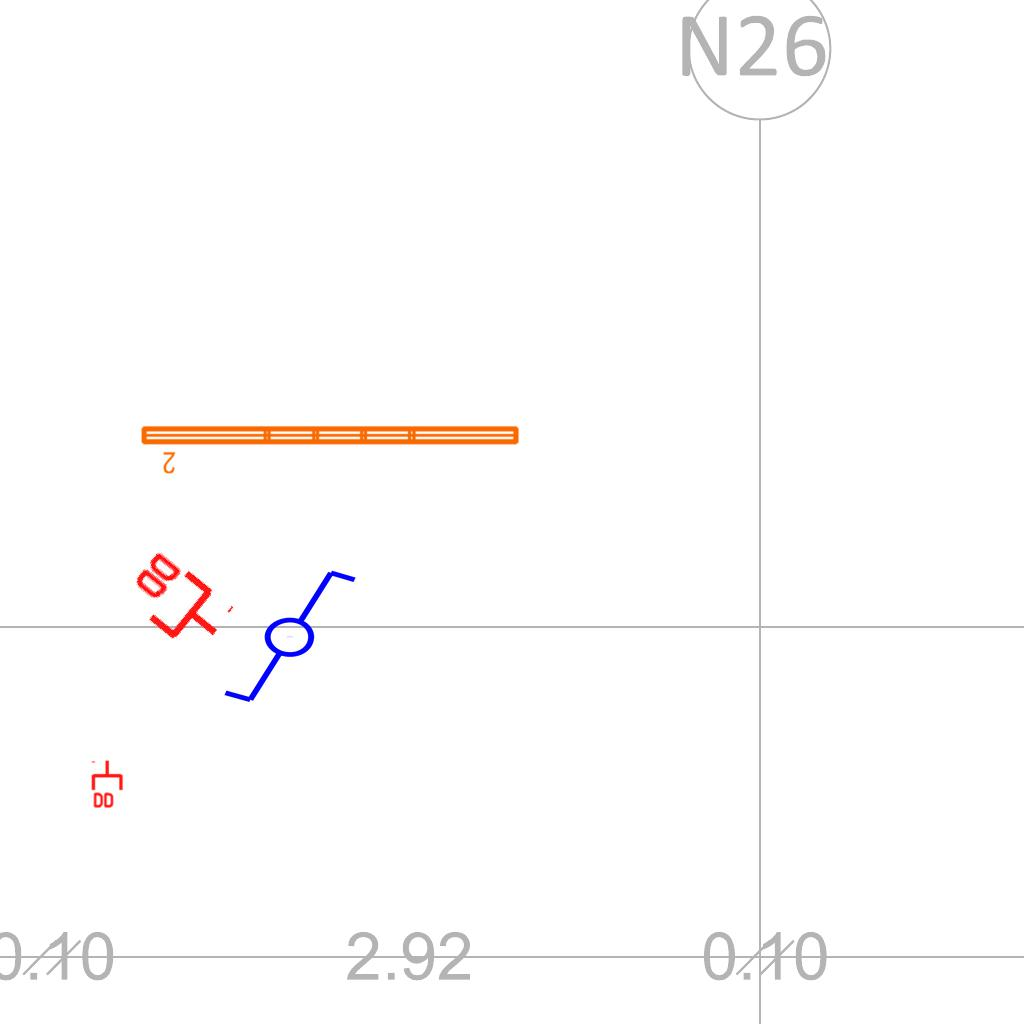Ambulanz_Pendelleuchte_LED: (137, 420, 524, 476)
Datenanschluss_zweifach: (114, 544, 239, 663), (91, 759, 125, 810)
Wechselschalter: (203, 563, 360, 707)
